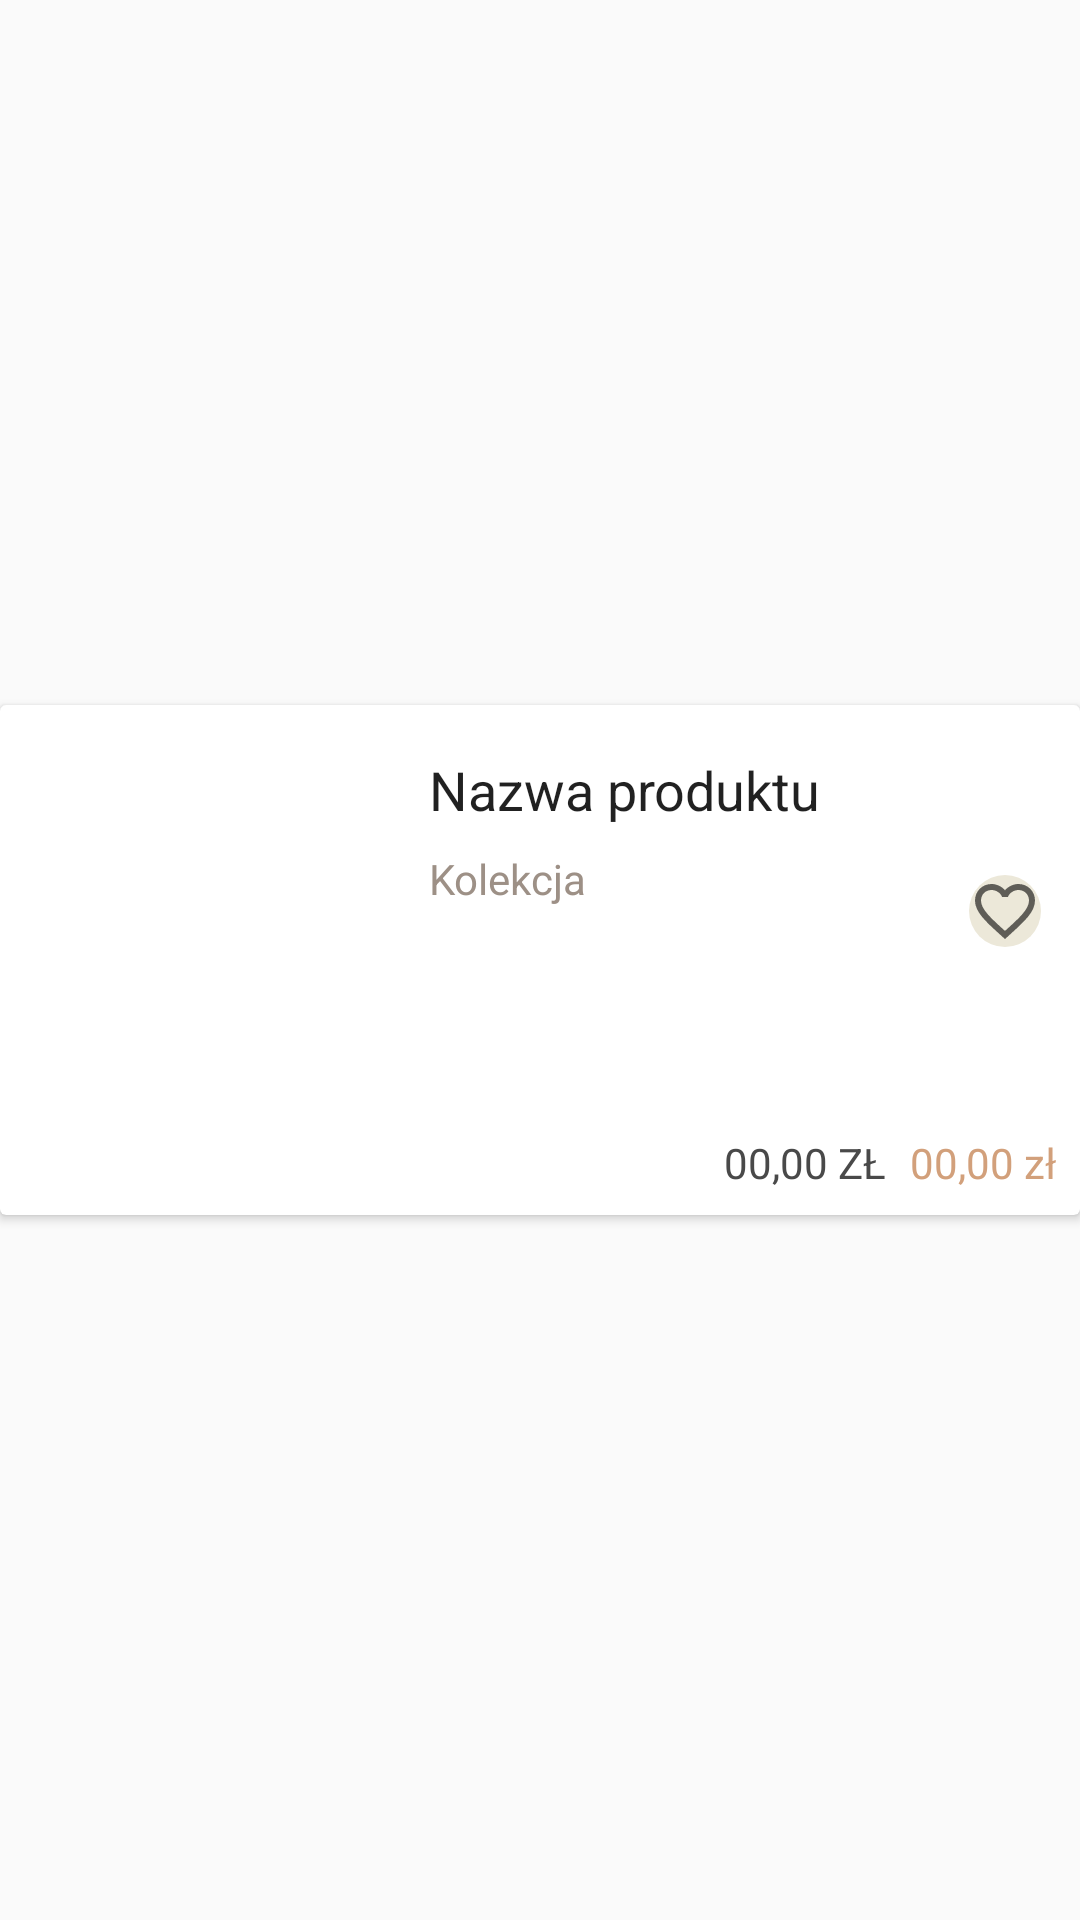

Where to tap for icons on this 1080px x 1920px app screen, as (x=x, y=y):
favorite border: (x=1005, y=911)
